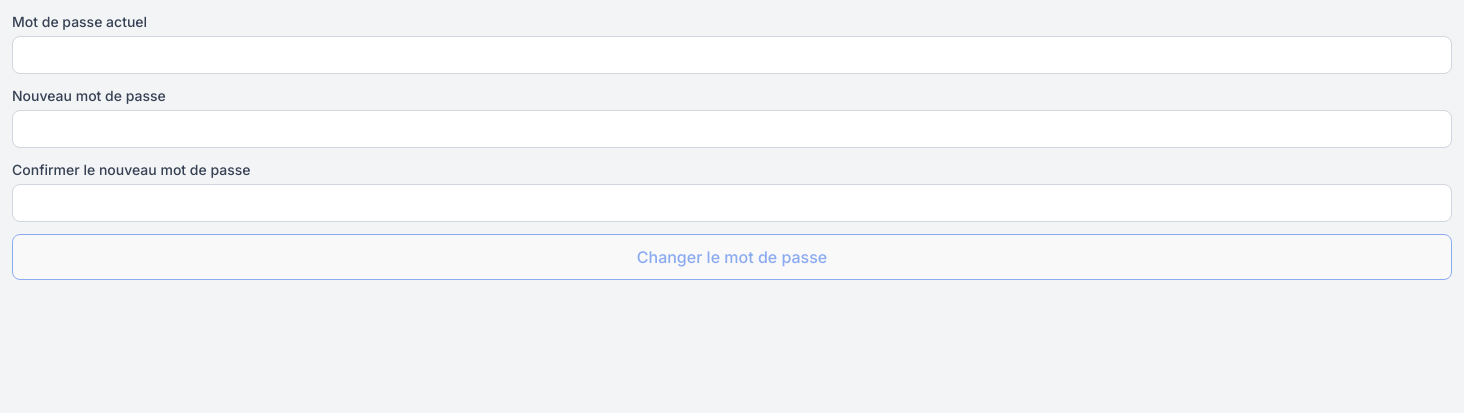
Test: shows a generic error and stops loading when signInWithPassword rejects
Type "OldPass1!" into the password field labelled "Mot de passe actuel" at {"x": 732, "y": 55}, box [12,36,1452,74]
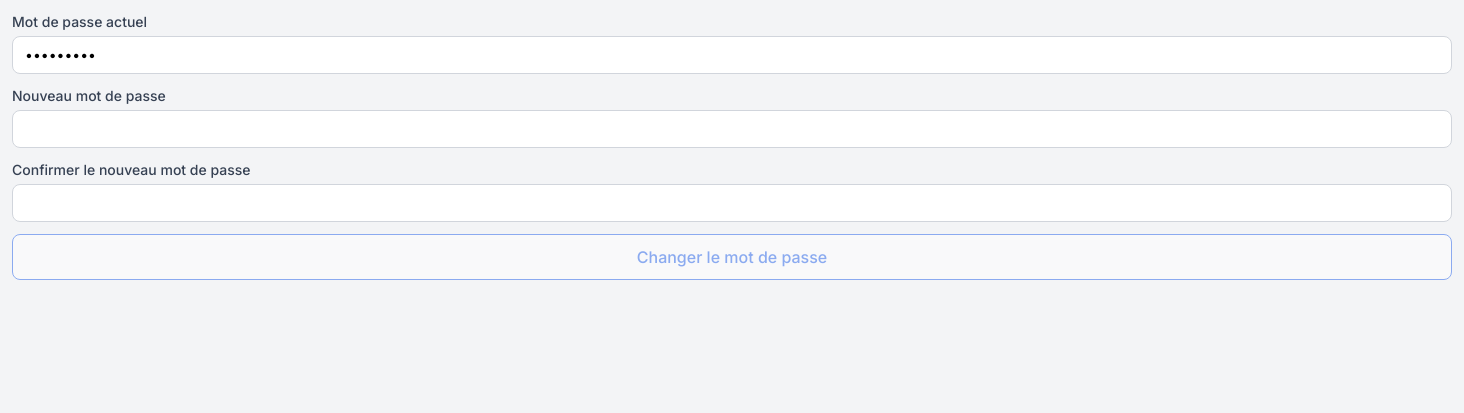
Type "NewPass1!" into the password field labelled "Nouveau mot de passe" at {"x": 732, "y": 129}, box [12,110,1452,148]
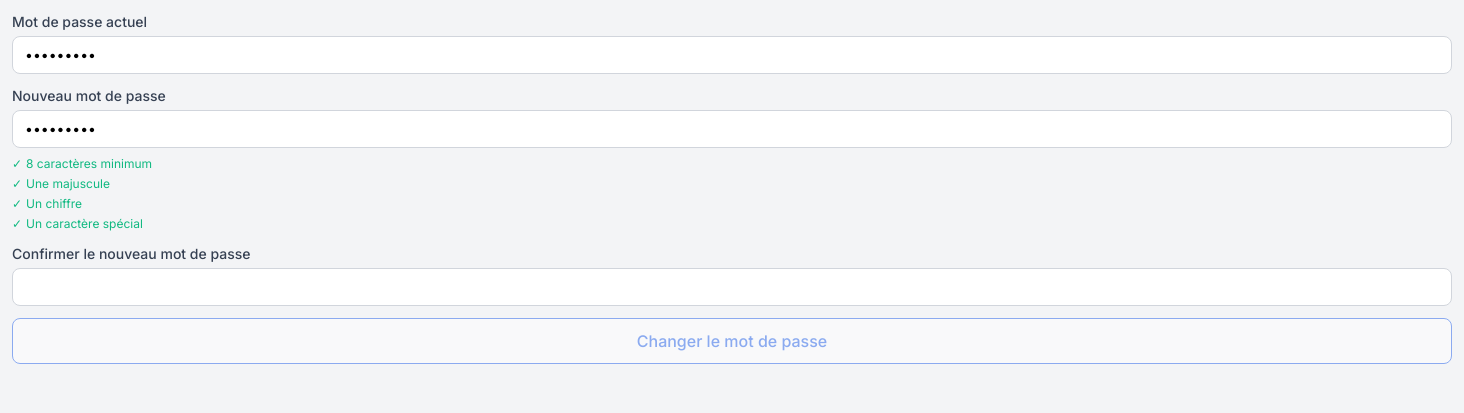
Type "NewPass1!" into the password field labelled "Confirmer le nouveau mot de passe" at {"x": 732, "y": 287}, box [12,268,1452,306]
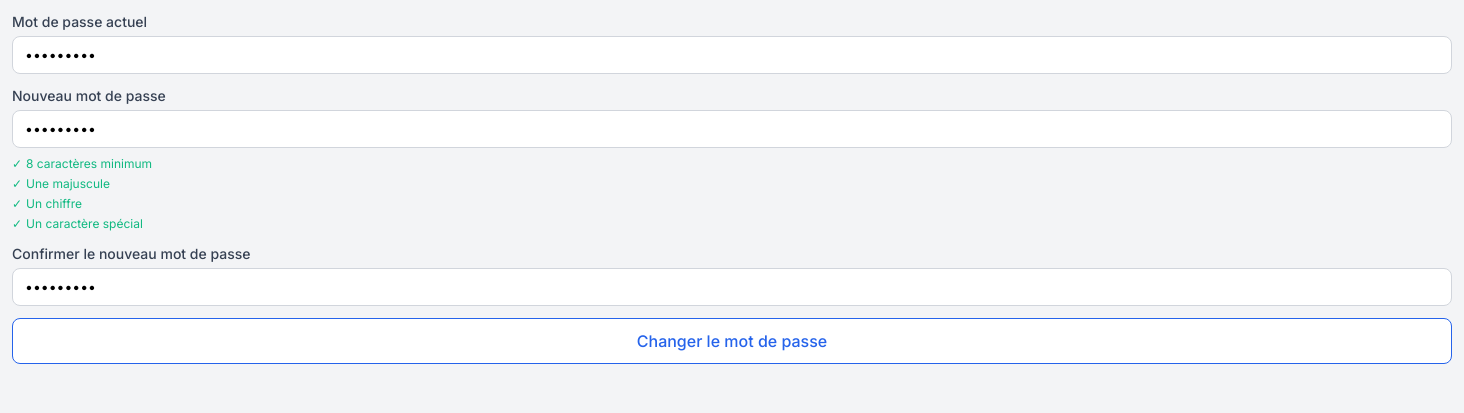
Click the button "Changer le mot de passe" at {"x": 732, "y": 341}, box [12,318,1452,364]
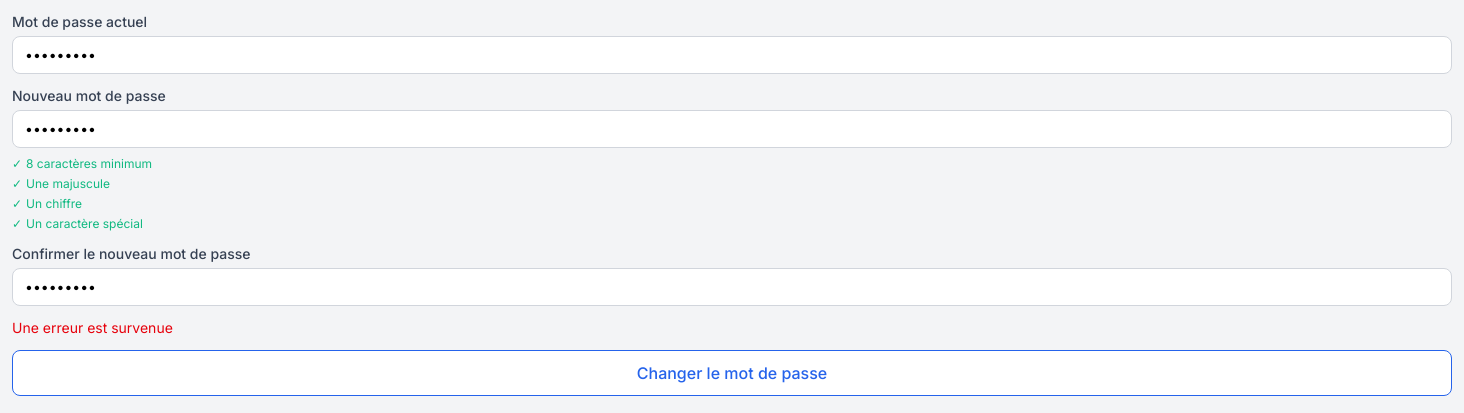
Expected: the button "Changer le mot de passe" is enabled, [12,350,1452,396]
Expected: the text "Une erreur est survenue" is shown, [12,319,173,336]
